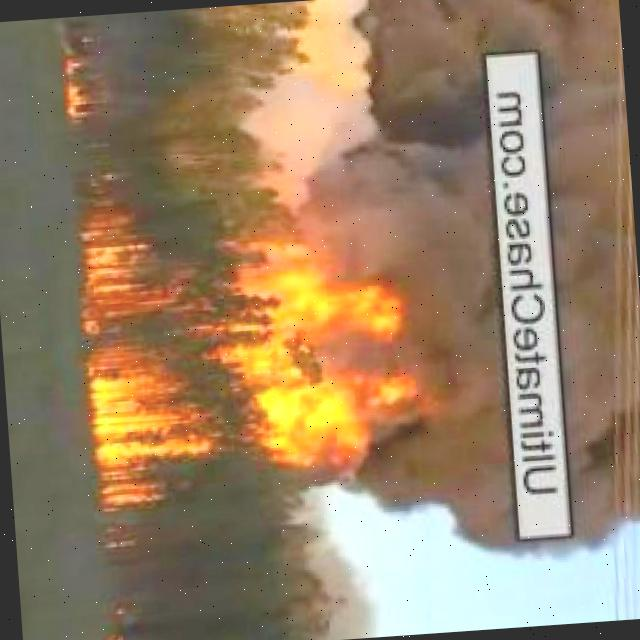fire: (211, 221, 418, 502), (79, 215, 213, 514), (61, 35, 108, 134)
